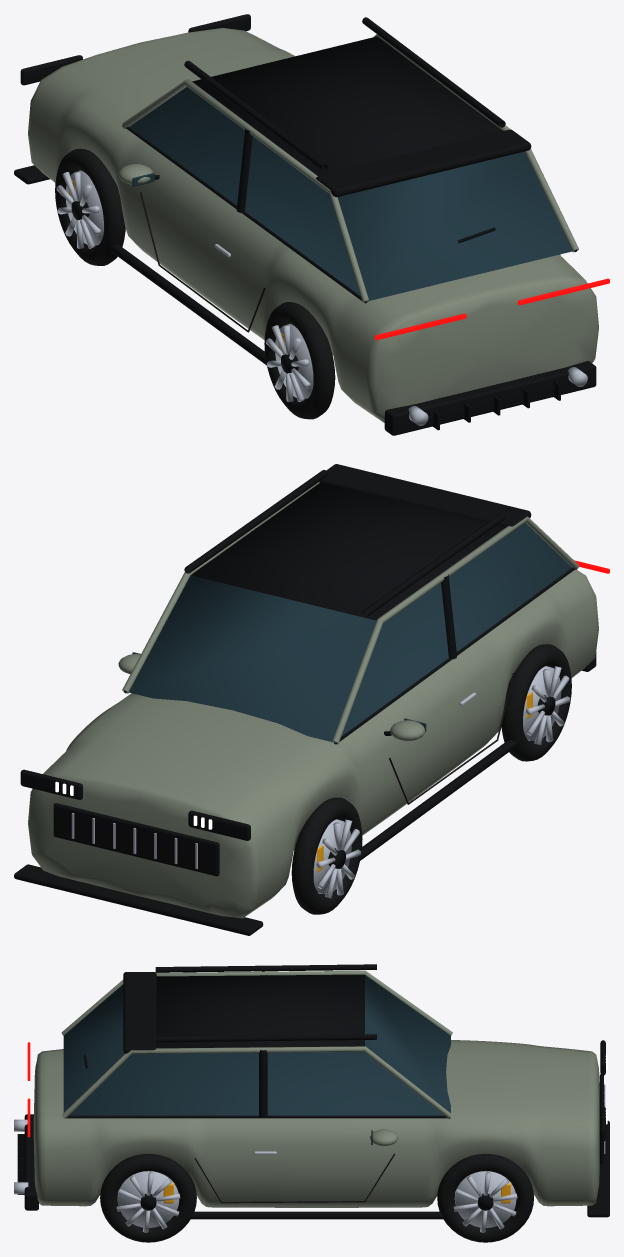
The model's file is sahyadri-suv.glb.
The picture shows the model from 3 angles, top to bottom: view 1: azimuth 30°, elevation 25°; view 2: azimuth 150°, elevation 25°; view 3: azimuth 270°, elevation 25°; orthographic projection. The views are drawn at different scales.
Parts seen in each view (by area): view 1: Surface_Paint, Surface_Carbon, Surface_Glazing, Tire, Tire.001, Rim_lip, Rim_lip.001, Surface_Tailights, Surface_Alloy; view 2: Surface_Paint, Surface_Carbon, Surface_Glazing, Tire.001, Tire, Rim_lip.001, Rim_lip, Surface_Alloy; view 3: Surface_Paint, Surface_Glazing, Surface_Carbon, Tire.003, Tire.002, Rim_lip.002, Rim_lip.003, Surface_Alloy, Surface_Panel_seams.
Boxes of the visible parts, x1,y1,x2,y2 form: Surface_Paint: (28,28,598,422); Surface_Carbon: (14,14,596,435); Surface_Glazing: (129,87,575,301); Tire: (264,302,335,419); Tire.001: (55,148,125,265); Rim_lip: (266,323,313,401); Rim_lip.001: (56,170,103,248); Surface_Tailights: (374,278,609,340); Surface_Alloy: (214,244,587,425); Surface_Paint: (28,482,598,918); Surface_Carbon: (14,464,596,935); Surface_Glazing: (125,522,571,742); Tire.001: (291,797,362,914); Tire: (501,644,571,761); Rim_lip.001: (313,819,360,898); Rim_lip: (523,665,570,744); Surface_Alloy: (71,692,475,868); Surface_Paint: (33,970,599,1207); Surface_Glazing: (63,975,450,1145); Surface_Carbon: (17,964,609,1219); Tire.003: (437,1153,533,1242); Tire.002: (100,1154,196,1242); Rim_lip.002: (116,1171,180,1232); Rim_lip.003: (453,1171,517,1232); Surface_Alloy: (14,1084,605,1194); Surface_Panel_seams: (194,1153,395,1203).
Size of the model in its own units: 2.35 by 1.81 by 4.99.
